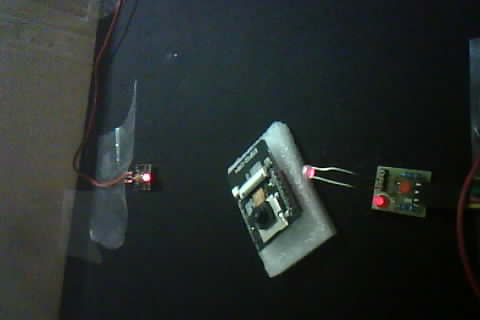esp32: (226, 122, 307, 277)
